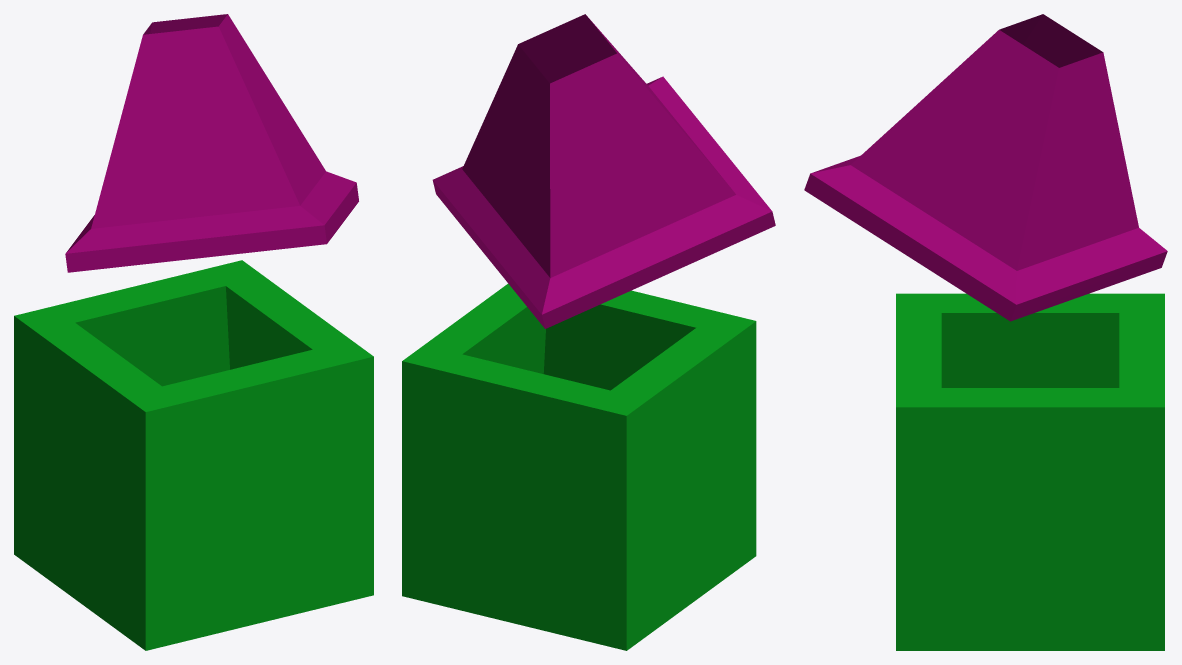
File: AnimatedBox_000089.obj
3 renders of one model, left to right at view 1: azimuth 30°, elevation 25°; view 2: azimuth 150°, elevation 25°; view 3: azimuth 270°, elevation 25°, orthographic. The views are drawn at different scales.
Parts seen in each view (by area): view 1: Cube, Cube.001; view 2: Cube, Cube.001; view 3: Cube, Cube.001.
Part boxes in pixels (x1,y1,x2,y2): Cube: (14,260,373,650); Cube.001: (65,14,358,272); Cube: (402,283,756,650); Cube.001: (432,14,775,328); Cube: (896,293,1164,650); Cube.001: (804,14,1167,321).
Bounding box in the file's own units: 2.79 × 4.67 × 2.7.
